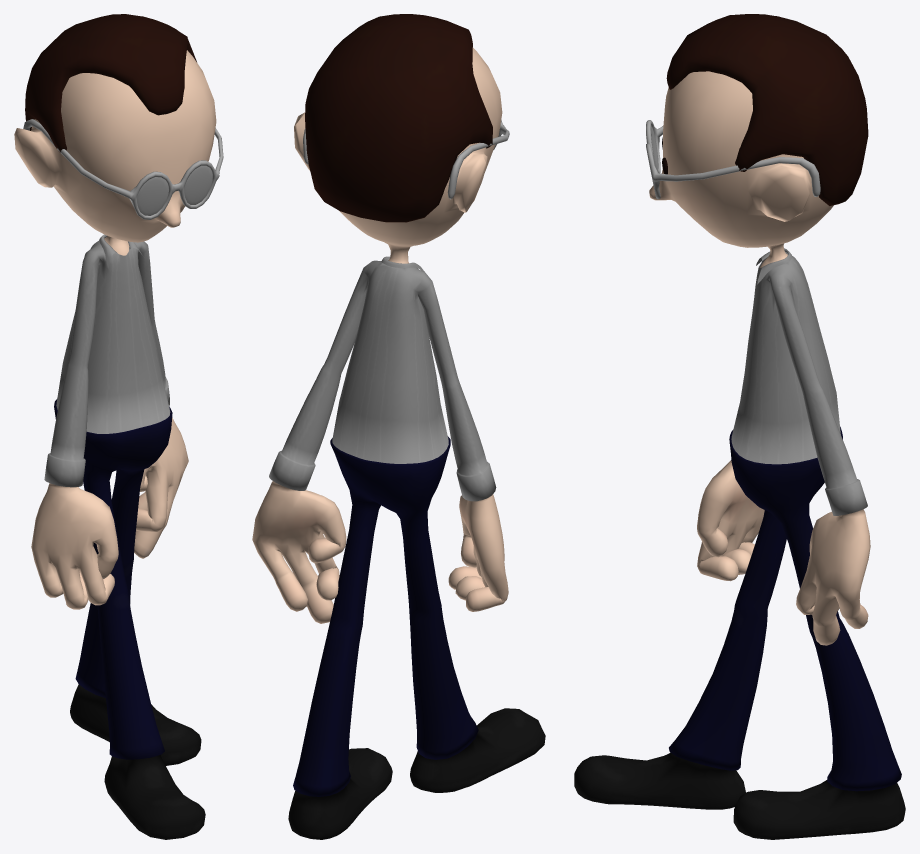
The model's file is Animation_Cartoon_Starter_000230.obj.
3 views of the same model, side by side, from view 1: azimuth 30°, elevation 25°; view 2: azimuth 150°, elevation 25°; view 3: azimuth 270°, elevation 25° (orthographic). The views are drawn at different scales.
Parts seen in each view (by area): view 1: bm_09; view 2: bm_09; view 3: bm_09.
Part boxes in pixels (box(x1,y1,x2,y2)): bm_09: box(14, 14, 223, 839); bm_09: box(252, 14, 545, 839); bm_09: box(574, 14, 905, 839).
Size of the model in its own units: 0.4142 by 1.5 by 0.5748.
3 materials, 1 textured.
